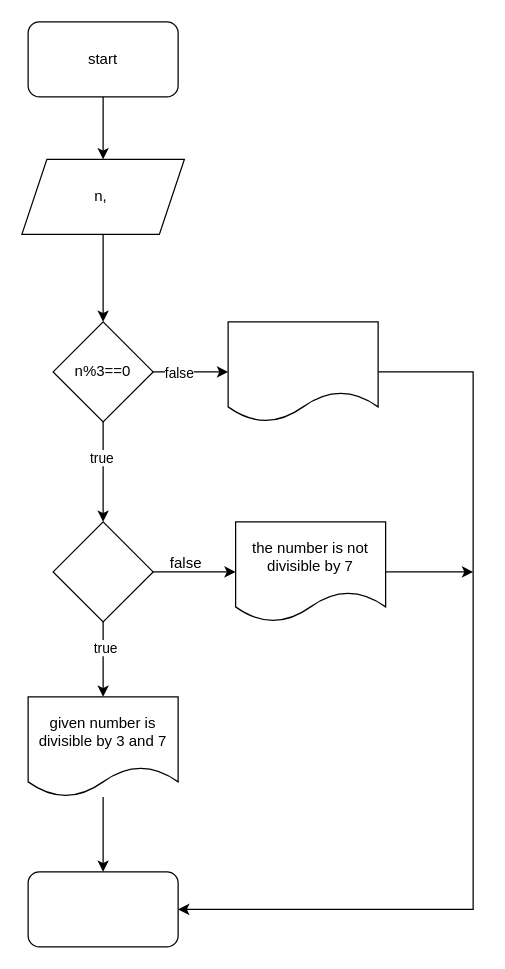
The diagram is 505 pixels wide and 969 high, and some of its shapes have lost their labels. The centre of each missing label's shape, as x and y in pixels:
"end" goes at [102,909].
"n%7==0" goes at [102,571].
"the number is not divisible by 3" goes at [302,371].
